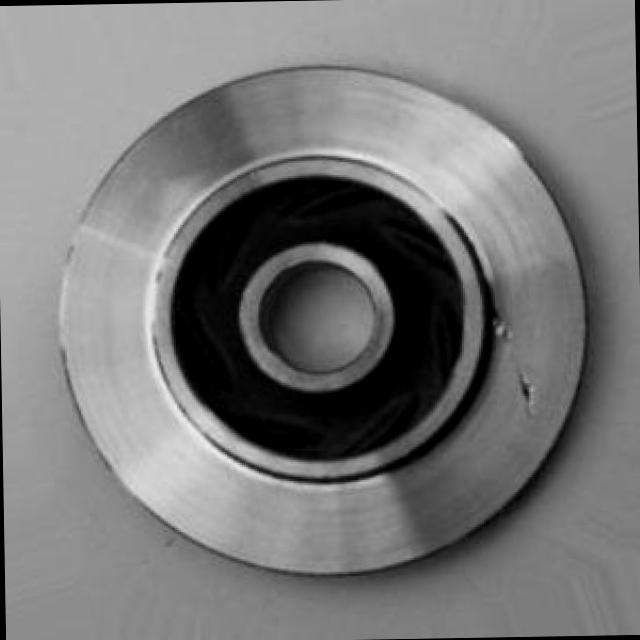Defect: (511, 370, 545, 408)
